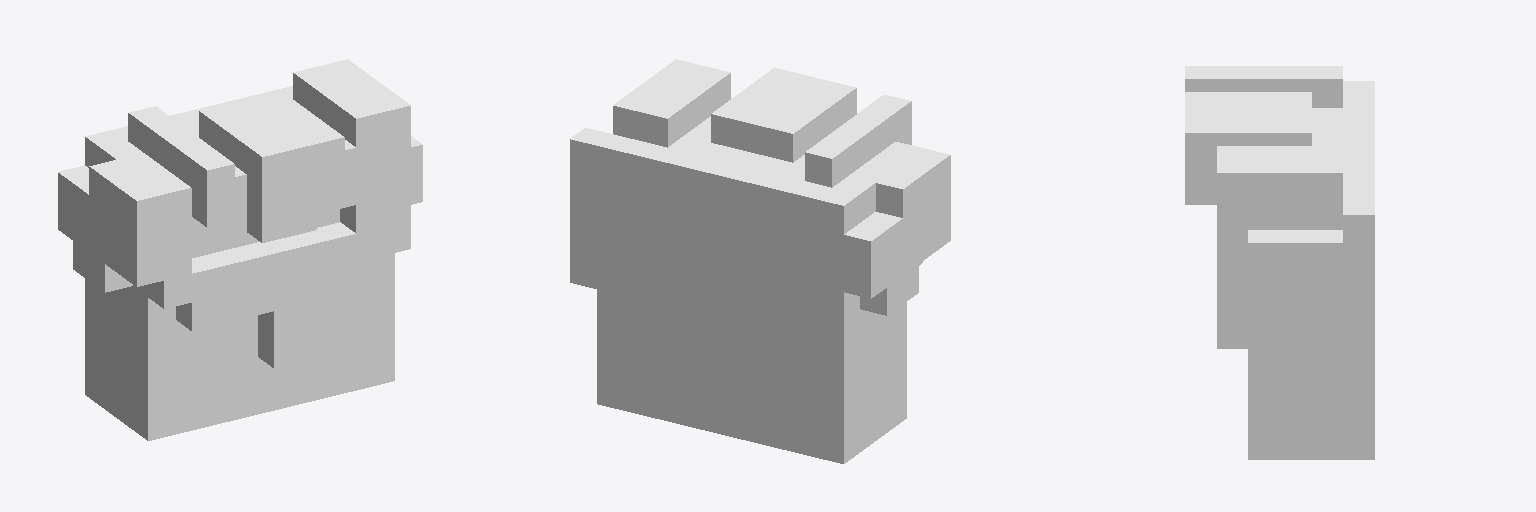
File: Pushkar-0.obj
3 views of the same model, side by side, from view 1: azimuth 30°, elevation 25°; view 2: azimuth 150°, elevation 25°; view 3: azimuth 270°, elevation 25° (orthographic).
Visible parts, largest first — view 1: object 1; view 2: object 1; view 3: object 1.
Boxes of the visible parts, box(x1,y1,x2,y2) form: object 1: box(58, 59, 422, 440); object 1: box(570, 59, 950, 463); object 1: box(1185, 66, 1374, 459).
Size of the model in its own units: 1.1 by 1 by 0.6.